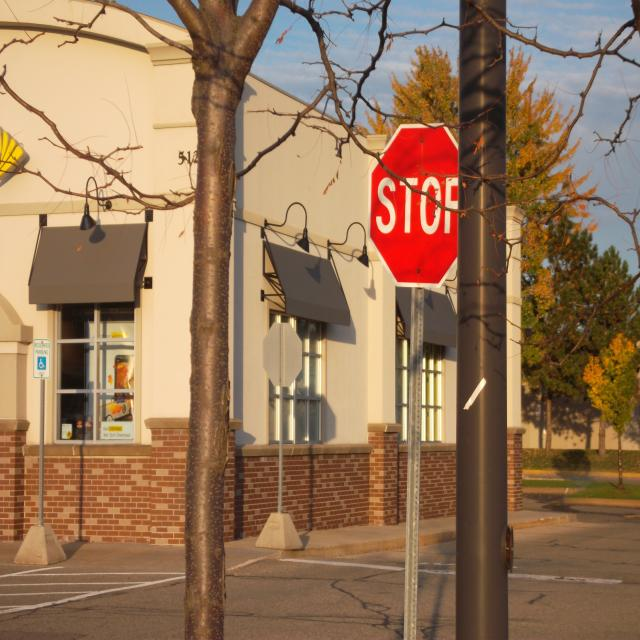stop: (371, 125, 460, 284)
